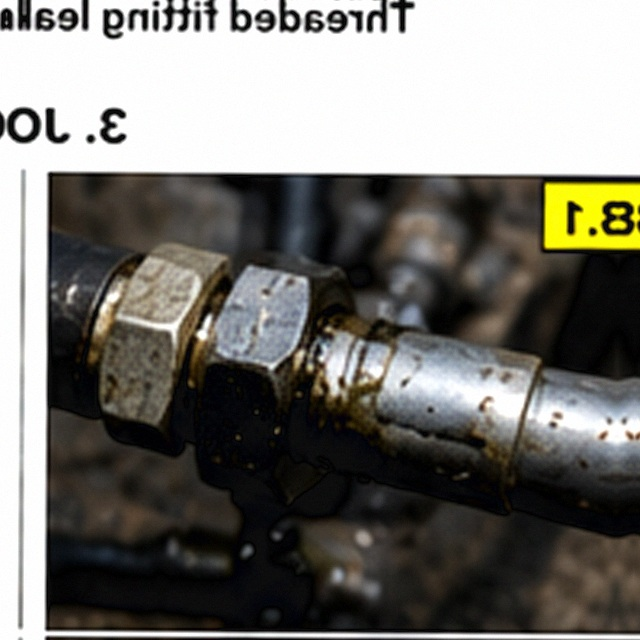hydraulic_oil_leak: (184, 187, 482, 425)
